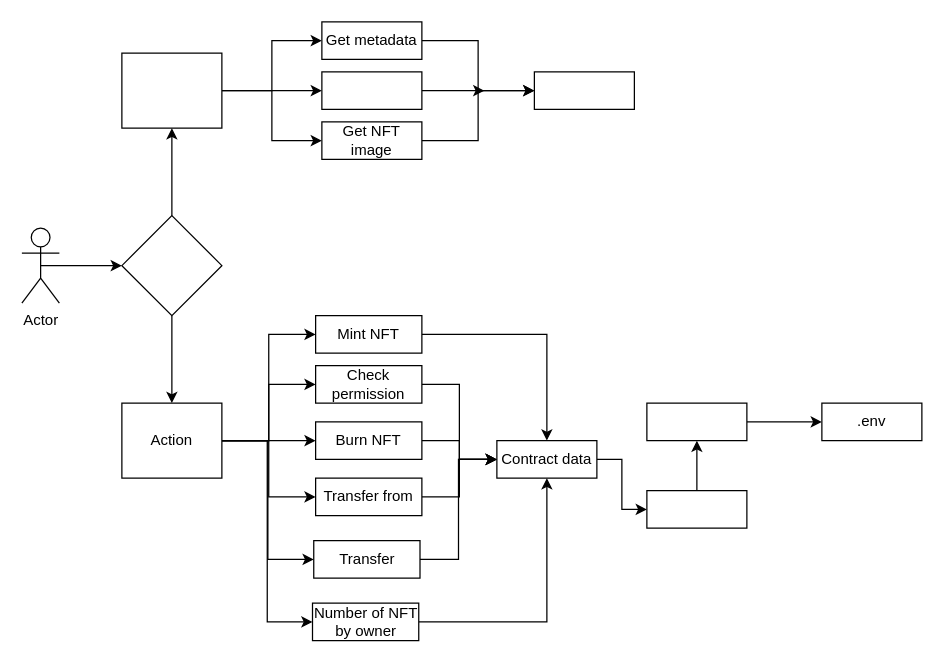
Some shapes in this 944 by 663 pixel diagram are drawn without their labels. Each missing label, with the centre of its shape:
Interaction: [171,265]
IPFS: [583,90]
Question: [171,90]
Search by ID: [371,90]
Signer: [696,508]
Wallet: [696,421]
